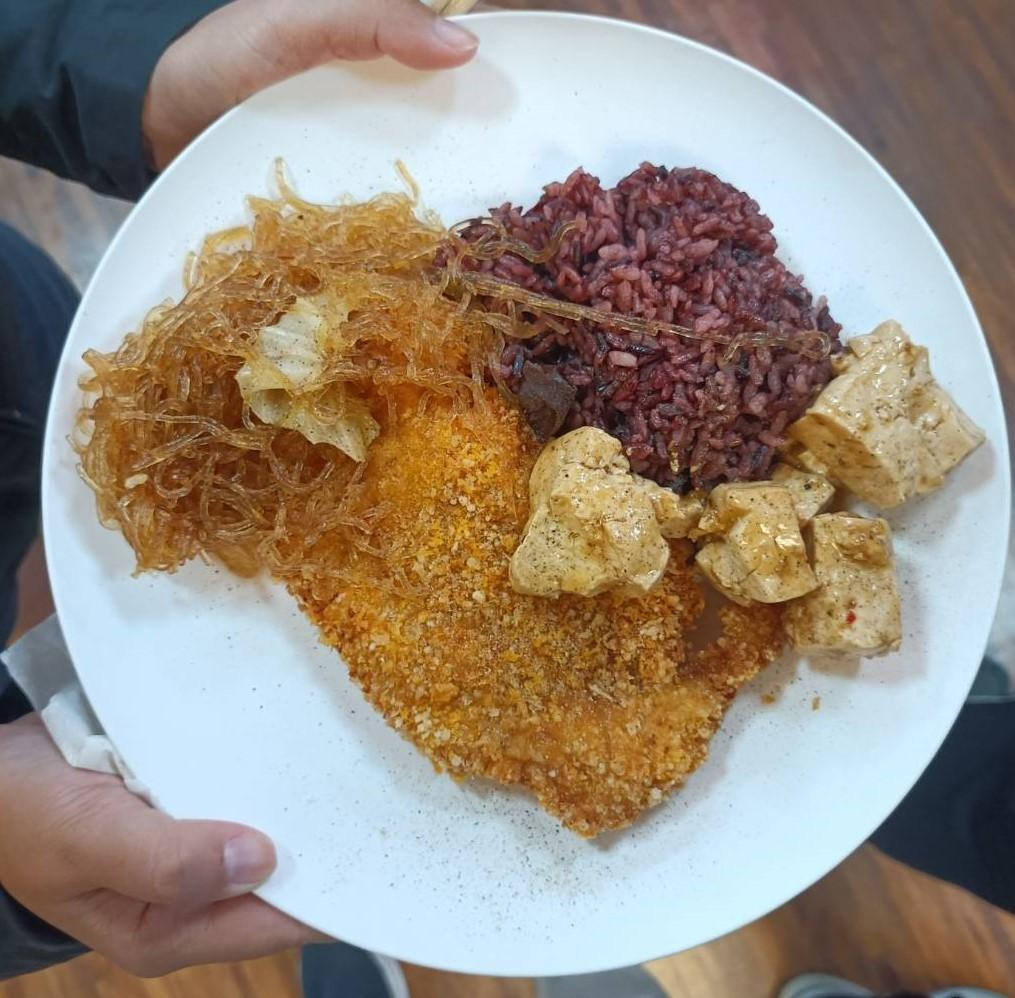big fried chicken leg: (28, 14, 1015, 991)
braised fish: (472, 162, 842, 484)
braised fish fillet: (504, 328, 994, 673), (83, 178, 476, 569)
braised pork: (290, 389, 797, 841)
